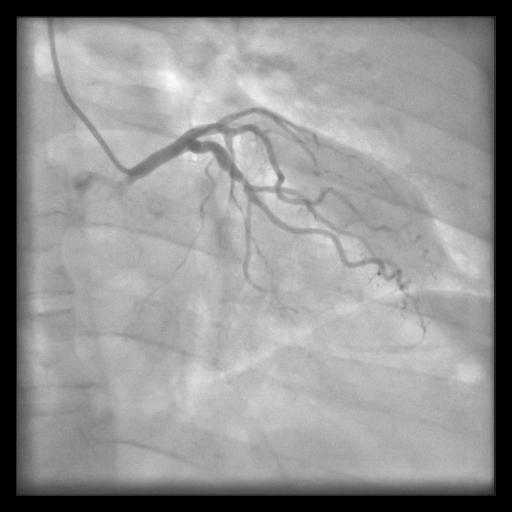Stenosis: (240, 172, 245, 189)
